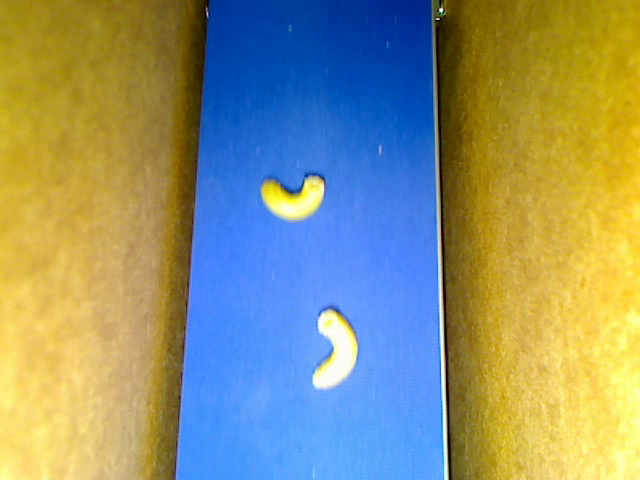elbow: (312, 307, 359, 391), (260, 173, 324, 223)
